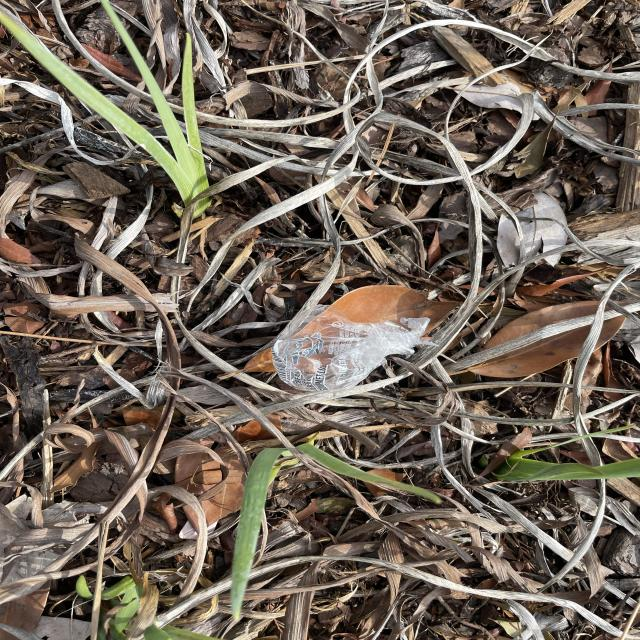plastic: (260, 292, 430, 408)
trash-zQNu: (264, 287, 442, 409)
